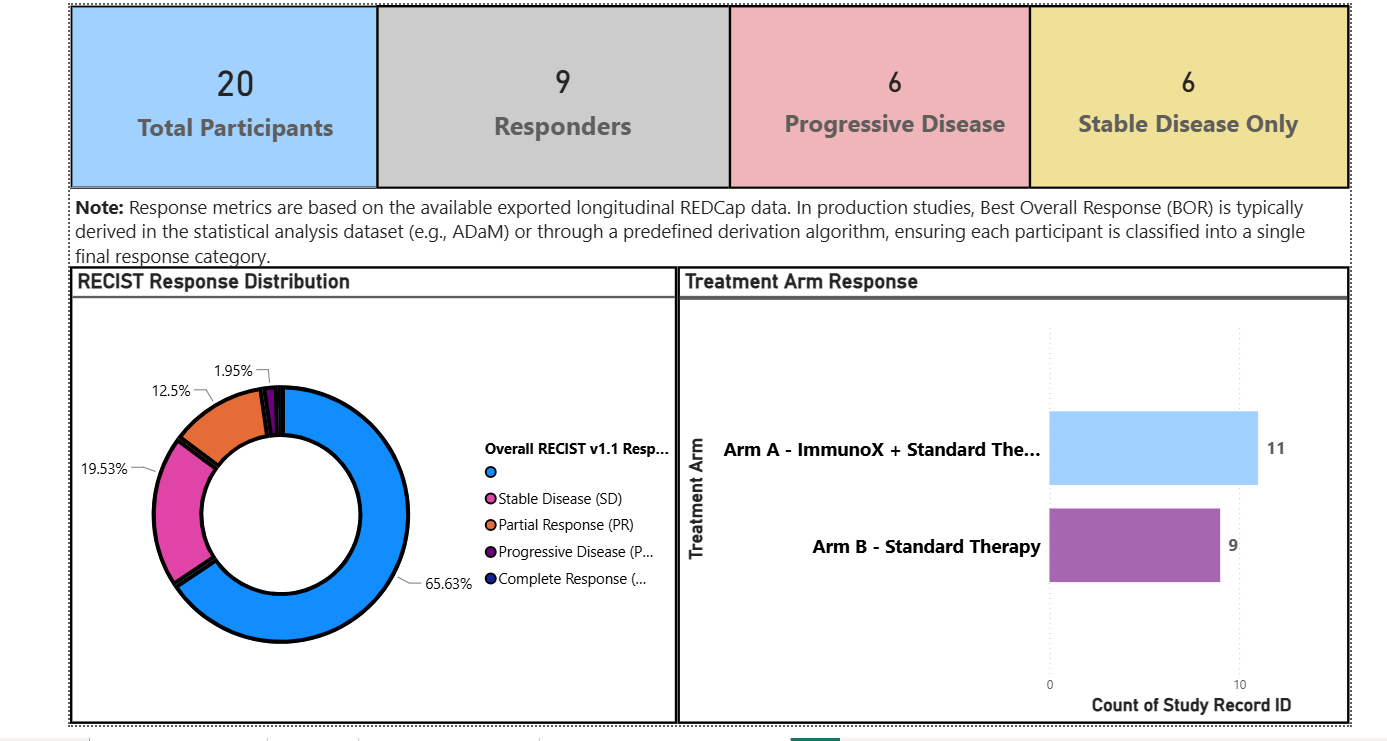

This screenshot's page, from the dashboard's own definition file:
{"tool":"powerbi","page":{"name":"Efficacy Dashboard","canvas":[1280,720],"ordinal":2},"visuals":[{"type":"card","fields":{"Values":["ClinicalData.Total Partcpnts"]},"box":[0,0,332.3,183.7],"z":0},{"type":"card","fields":{"Values":["ClinicalData.Responders"]},"box":[306.1,0,374.6,183.7],"z":1000},{"type":"card","fields":{"Values":["ClinicalData.Progressive Disease"]},"box":[658.8,0,333.8,183.7],"z":2000},{"type":"card","fields":{"Values":["ClinicalData.Stable Disease Only"]},"box":[958.8,0,320.7,183.7],"z":3000},{"type":"textbox","box":[0,183.7,1279.7,128.3],"z":4000},{"type":"donutChart","title":"RECIST Response Distribution","fields":{"Category":["ClinicalData.Overall RECIST v1.1 Response"],"Y":["CountNonNull(ClinicalData.Study Record ID)"]},"box":[0,261.3,607.4,457.8],"z":5000},{"type":"clusteredBarChart","title":"Treatment Arm Response","fields":{"Category":["ClinicalData.Treatment Arm"],"Y":["Count(ClinicalData.Study Record ID)"]},"box":[607.4,261.3,672.3,457.8],"z":6000}]}

Visuals, with their boxes on the page's 1280x720 design canvas (x1, y1, x2, y2). These are canvas units, not pixel positions in the 1387x741 screenshot, which may show the page scaled, cropped or inside an application window:
card - ClinicalData.Total Partcpnts: [0,0,332,184]
card - ClinicalData.Responders: [306,0,681,184]
card - ClinicalData.Progressive Disease: [659,0,993,184]
card - ClinicalData.Stable Disease Only: [959,0,1280,184]
textbox: [0,184,1280,312]
"RECIST Response Distribution" donutChart: [0,261,607,719]
"Treatment Arm Response" clusteredBarChart: [607,261,1280,719]
